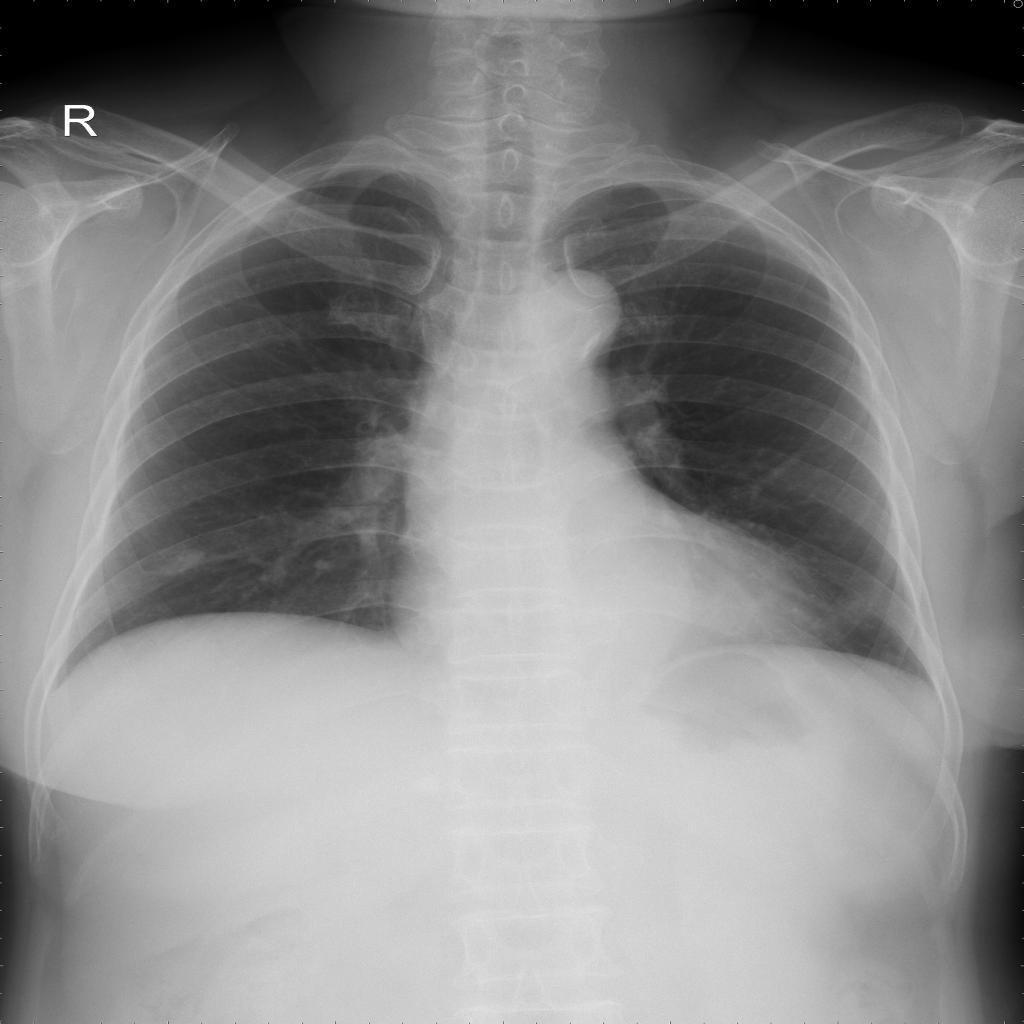Nodule: (158, 549, 206, 579)
